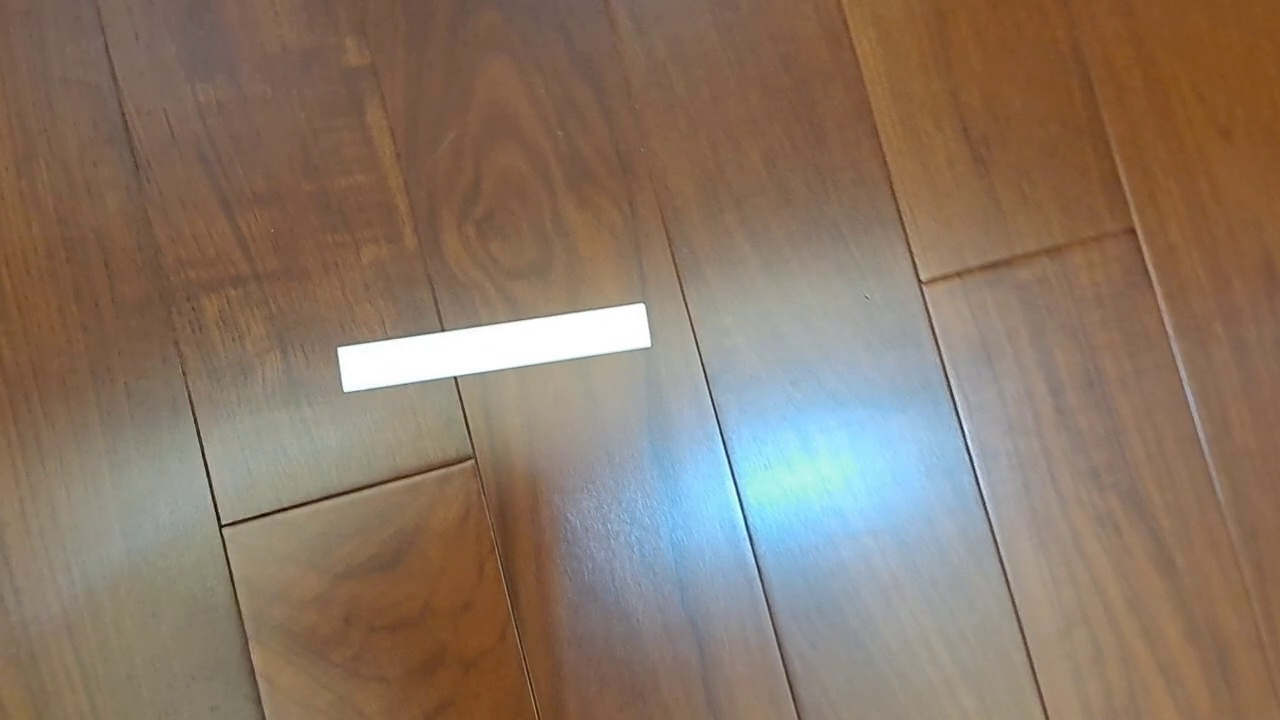ruler: (336, 301, 653, 394)
